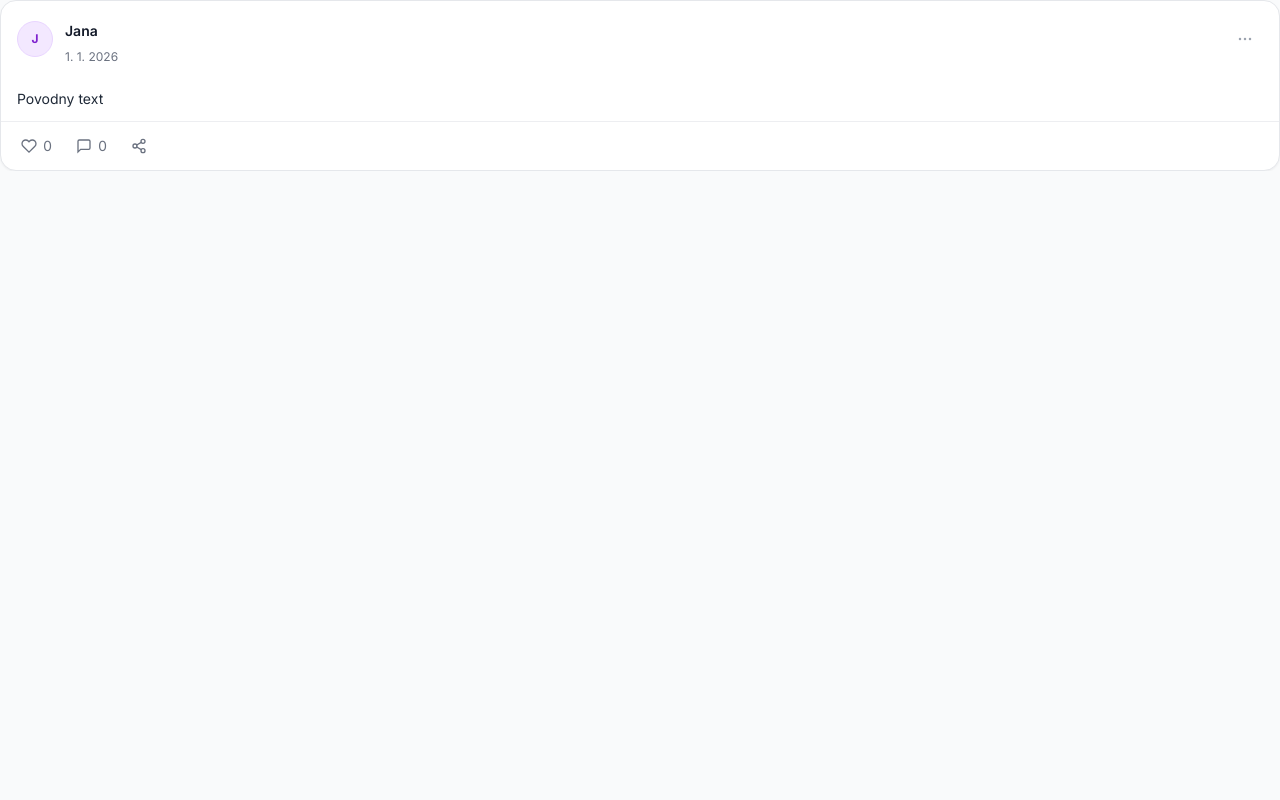
Test: úprava textu › refuses to save an empty caption when the post has no photo
This screenshot has width=1280, height=800.
Click the button with test id "feed-post-menu-trigger" at (1245, 39), box [1227, 21, 1263, 57]
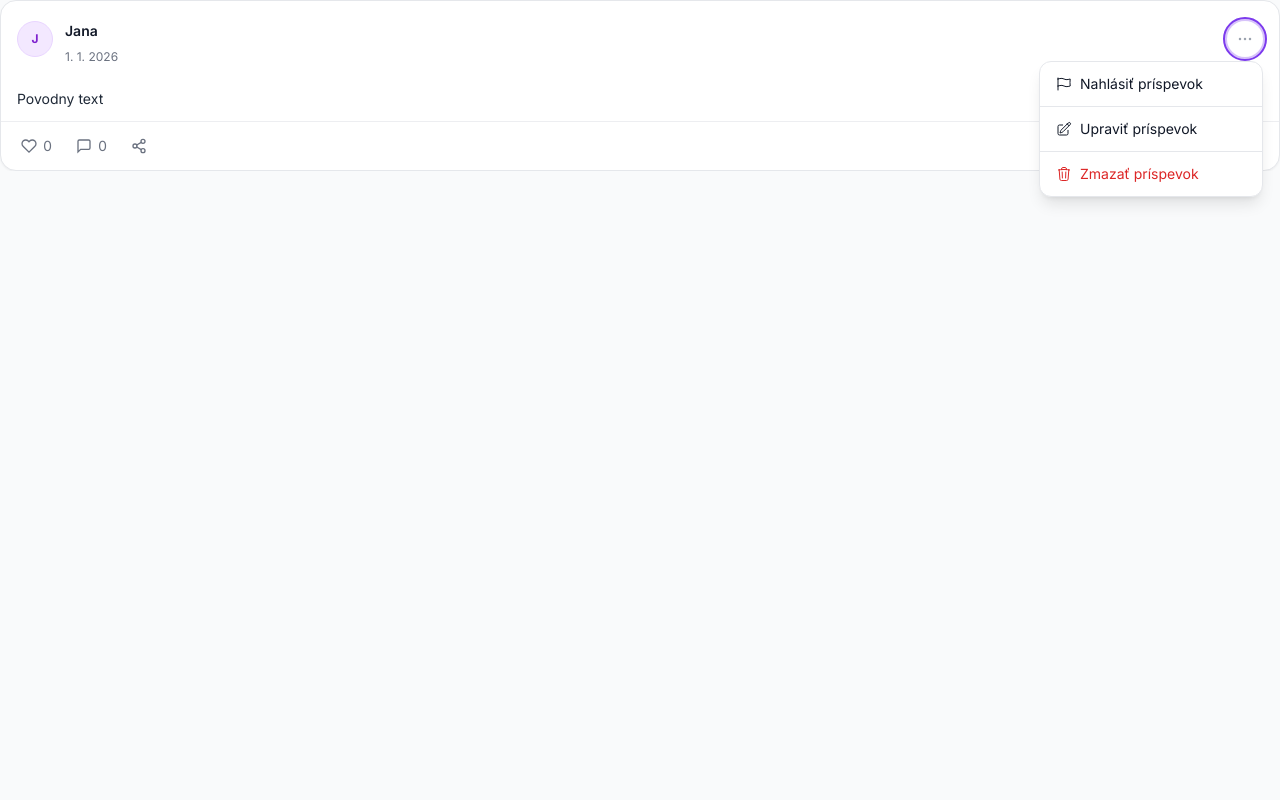
Click the menu item with test id "feed-post-edit" at (1151, 128), box [1040, 106, 1262, 151]
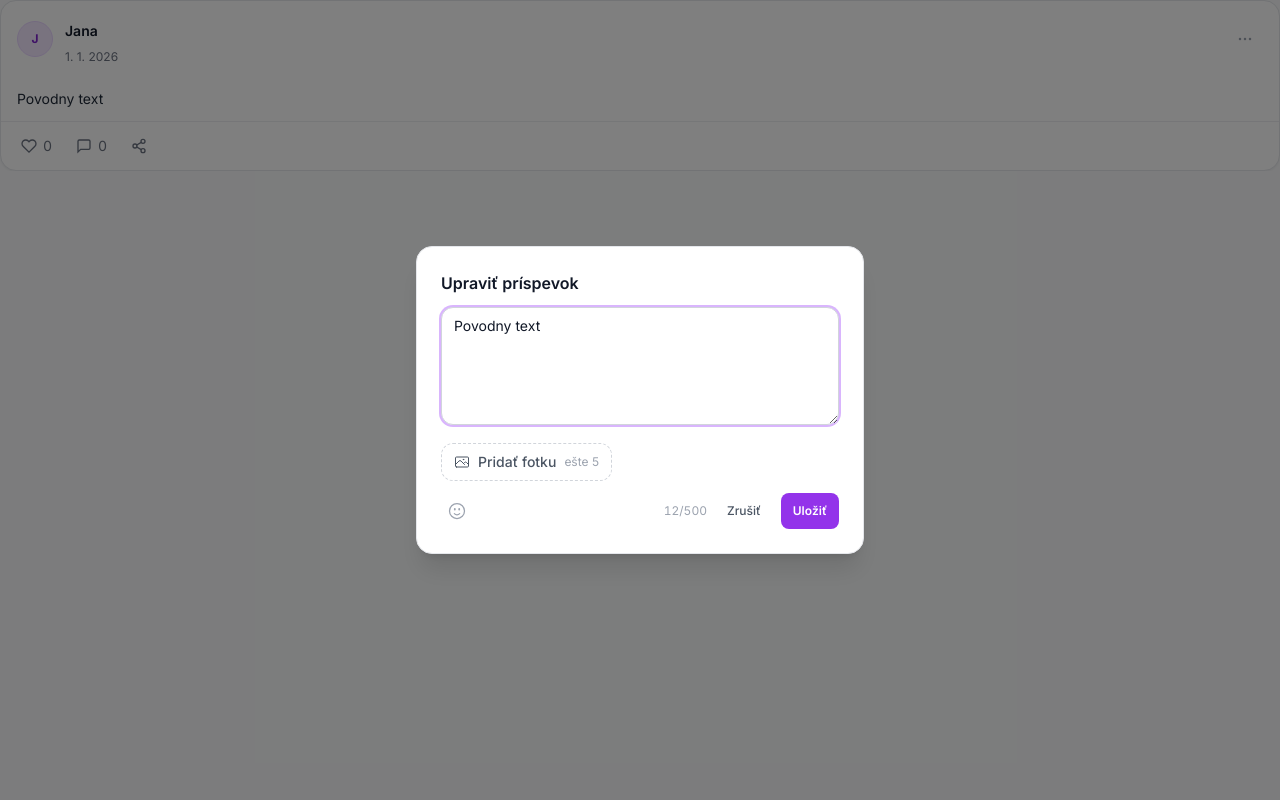
Clear the text box with test id "feed-post-edit-input" at (640, 366), box [441, 307, 839, 425]
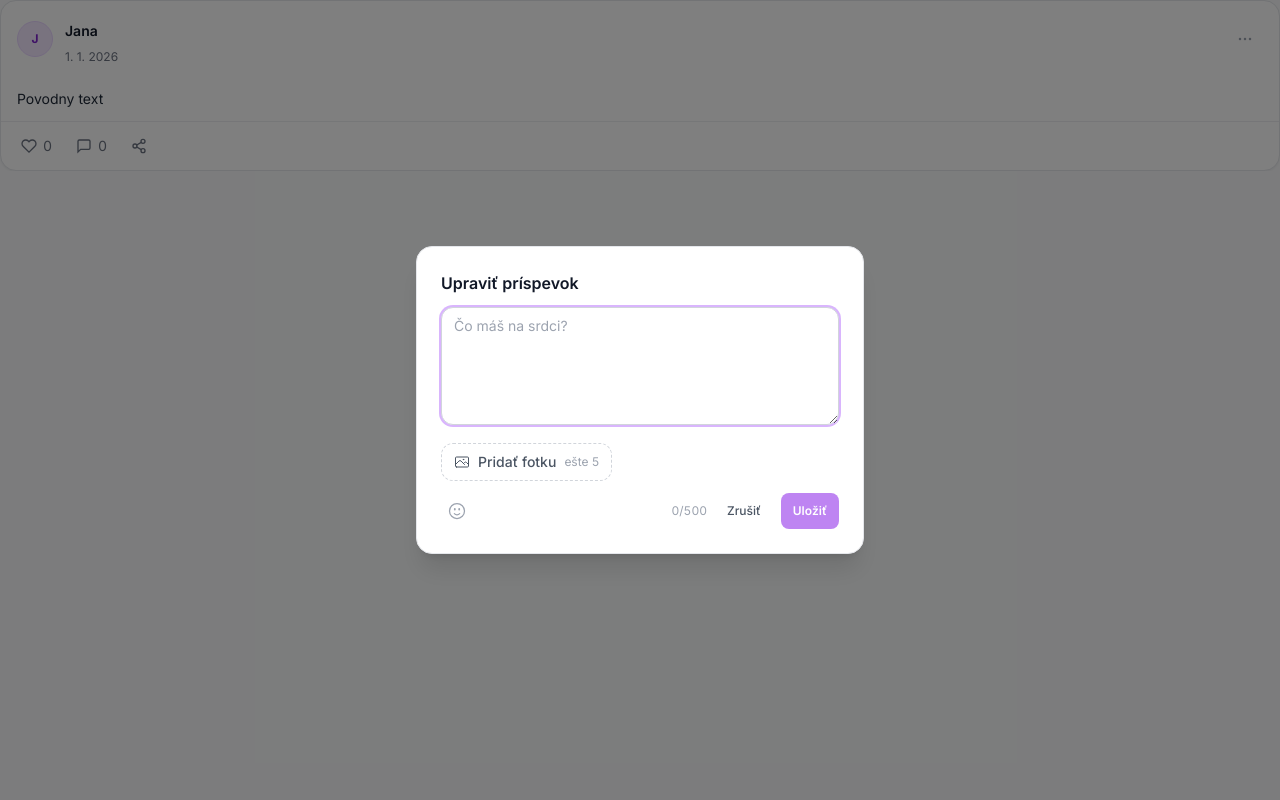
Now the button with test id "feed-post-edit-submit" is disabled, box [781, 493, 839, 529]
